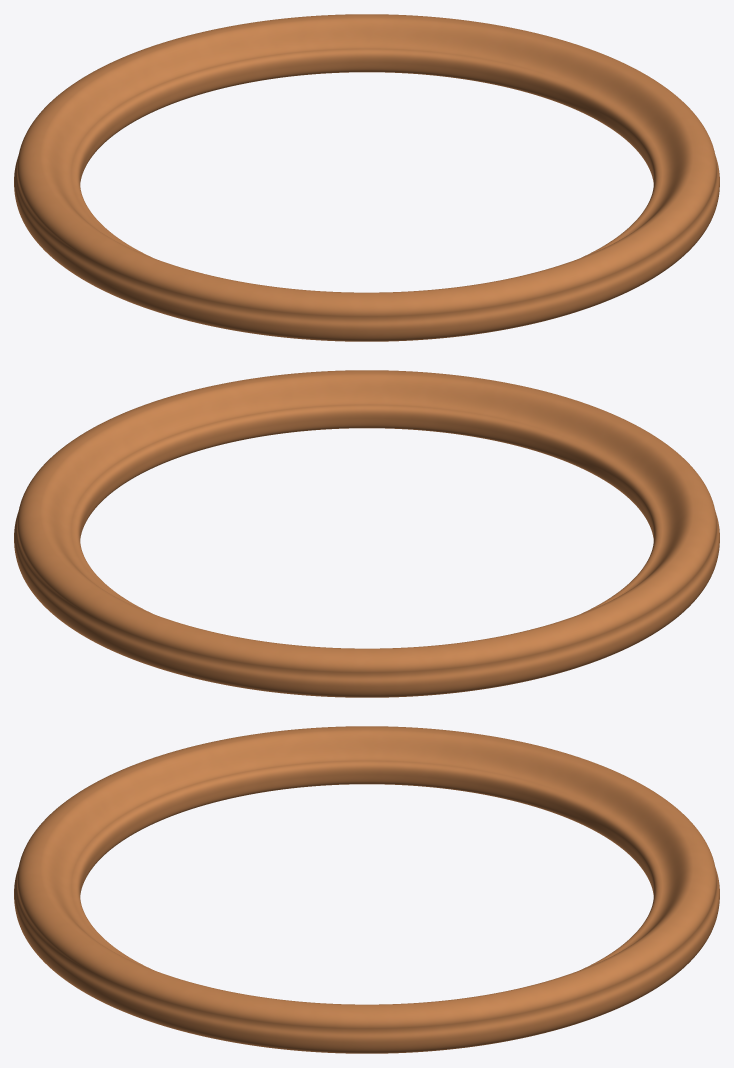
File: exhaust-header-gasket-v2-inspection.glb
The picture shows the model from 3 angles, top to bottom: view 1: azimuth 30°, elevation 25°; view 2: azimuth 150°, elevation 25°; view 3: azimuth 270°, elevation 25°; orthographic projection.
Visible parts, largest first — view 1: JE591002 related annular exterior - unmounted candidate; view 2: JE591002 related annular exterior - unmounted candidate; view 3: JE591002 related annular exterior - unmounted candidate.
Part boxes in pixels (<box>): JE591002 related annular exterior - unmounted candidate: <box>14,14,719,341</box>; JE591002 related annular exterior - unmounted candidate: <box>14,370,719,697</box>; JE591002 related annular exterior - unmounted candidate: <box>14,726,719,1053</box>.
Size of the model in its own units: 0.032 by 0.002 by 0.032.
Materials: 1 (1 with a texture image).
